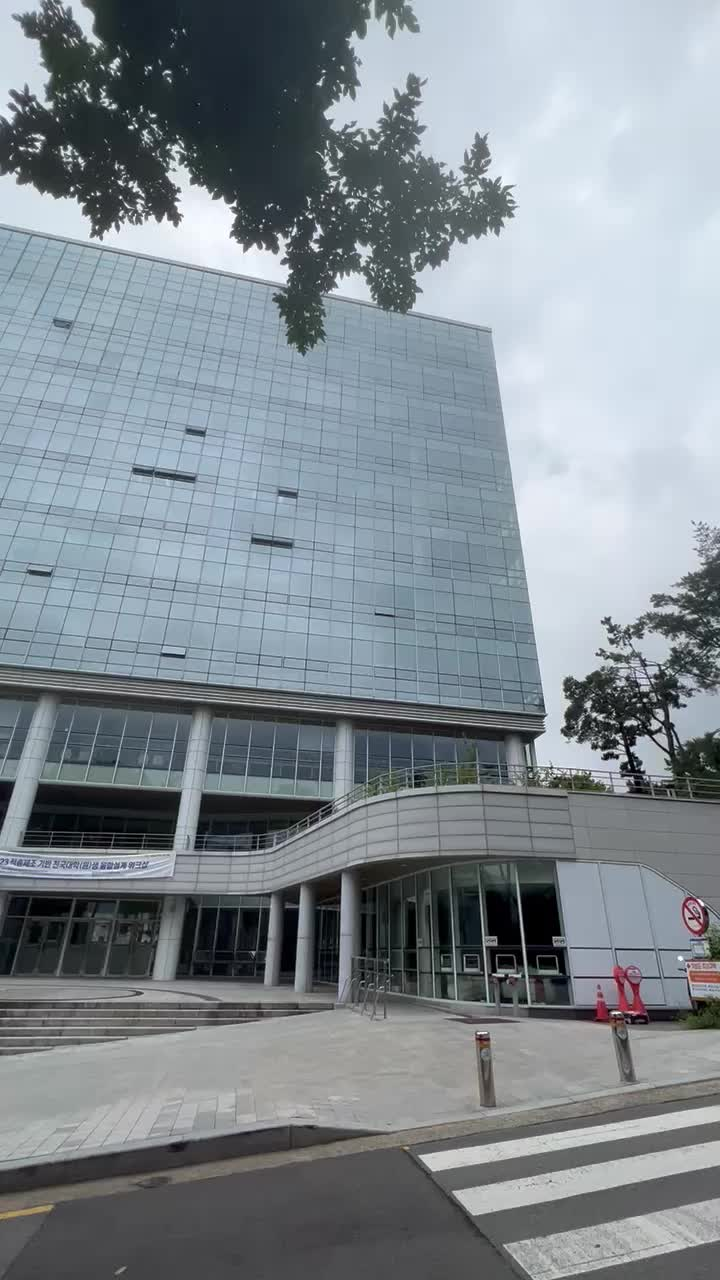low: (10, 278, 540, 960)
